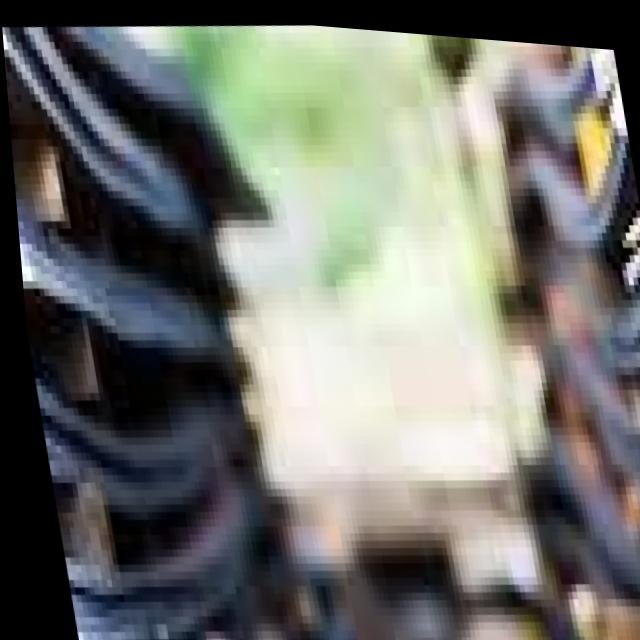metal-plates: (3, 25, 336, 640)
